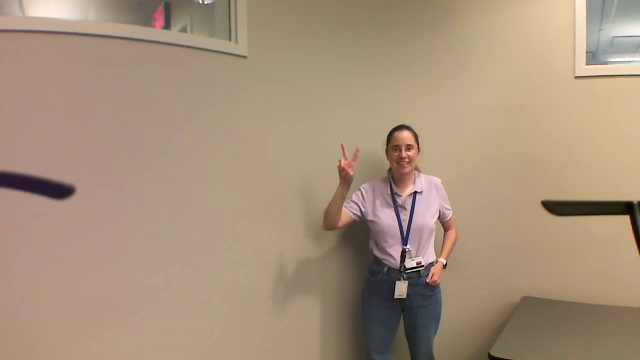peace: (332, 141, 368, 192)
